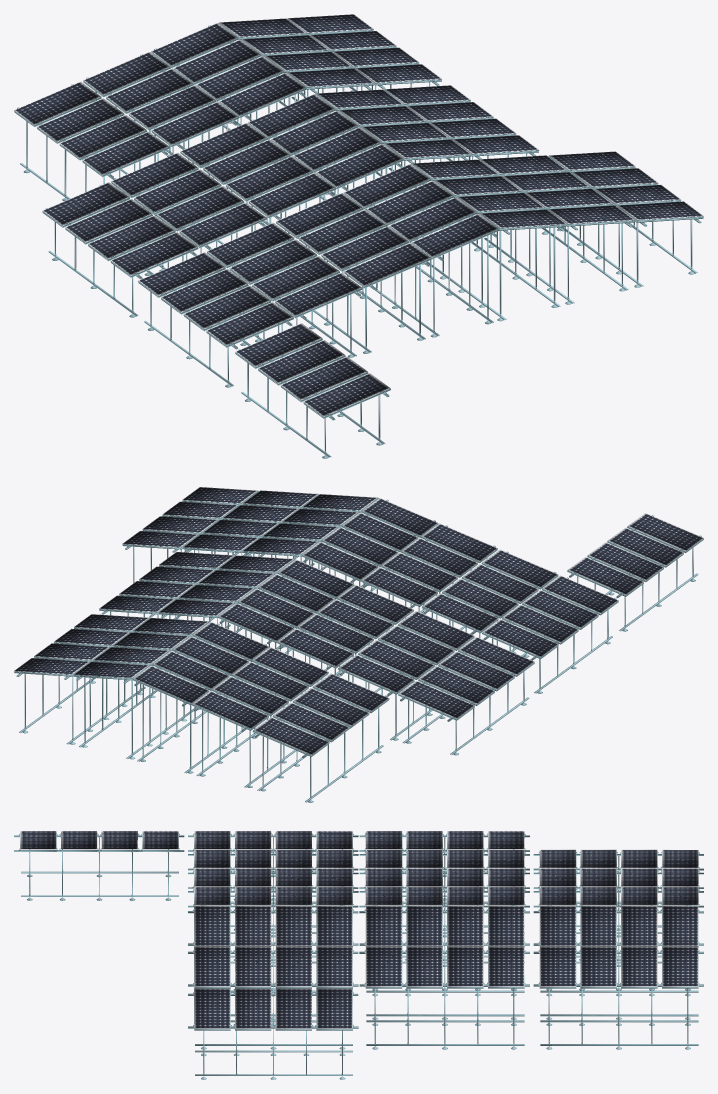
Rendered from gc_gfb.glb.
3 renders of one model, top to bottom at view 1: azimuth 30°, elevation 25°; view 2: azimuth 150°, elevation 25°; view 3: azimuth 270°, elevation 25°, orthographic. The views are drawn at different scales.
Parts seen in each view (by area): view 1: 板.032, 板.003, 板.001, 板.002, 板.035, 板.042, 板.056, 板.010, 板.031, 板.029, 板.049, 板.030 (+26 smaller); view 2: 板.042, 板.002, 板.049, 板.056, 板.001, 板.003, 板.031, 板.035, 板.029, 板.032, 板.010, 板.030 (+26 smaller); view 3: 板.033, 板.034, 板.057, 板.058, 板.004, 板.011, 板.012, 板.030, 板.042, 板.029, 板.032, 板.035 (+22 smaller).
Part boxes in pixels (x1=…): 板.032: x1=42, y1=182, x2=196, y2=275; 板.003: x1=207, y1=223, x2=361, y2=315; 板.001: x1=344, y1=164, x2=498, y2=256; 板.002: x1=276, y1=193, x2=430, y2=285; 板.035: x1=151, y1=23, x2=305, y2=115; 板.042: x1=83, y1=52, x2=237, y2=144; 板.056: x1=235, y1=323, x2=389, y2=416; 板.010: x1=138, y1=252, x2=292, y2=345; 板.031: x1=111, y1=153, x2=265, y2=245; 板.029: x1=248, y1=94, x2=402, y2=186; 板.049: x1=14, y1=82, x2=168, y2=174; 板.030: x1=180, y1=123, x2=334, y2=215; 板.042: x1=193, y1=647, x2=328, y2=728; 板.002: x1=362, y1=523, x2=497, y2=604; 板.049: x1=254, y1=673, x2=389, y2=754; 板.056: x1=568, y1=513, x2=703, y2=594; 板.001: x1=302, y1=498, x2=437, y2=579; 板.003: x1=423, y1=549, x2=558, y2=631; 板.031: x1=339, y1=611, x2=474, y2=692; 板.035: x1=133, y1=622, x2=268, y2=703; 板.029: x1=219, y1=559, x2=353, y2=640; 板.032: x1=399, y1=637, x2=534, y2=718; 板.010: x1=483, y1=575, x2=618, y2=656; 板.030: x1=278, y1=585, x2=413, y2=666; 板.033: x1=366, y1=906, x2=524, y2=946; 板.034: x1=366, y1=946, x2=524, y2=986; 板.057: x1=540, y1=906, x2=698, y2=946; 板.058: x1=540, y1=946, x2=698, y2=986; 板.004: x1=194, y1=906, x2=352, y2=946; 板.011: x1=194, y1=946, x2=352, y2=986; 板.012: x1=194, y1=988, x2=352, y2=1028; 板.030: x1=366, y1=868, x2=524, y2=886; 板.042: x1=540, y1=868, x2=698, y2=886; 板.029: x1=366, y1=887, x2=524, y2=905; 板.032: x1=366, y1=831, x2=524, y2=849; 板.035: x1=540, y1=887, x2=698, y2=905.
Bounding box in the file's own units: 8.14 × 1.58 × 11.36.
2 materials, 1 textured.
